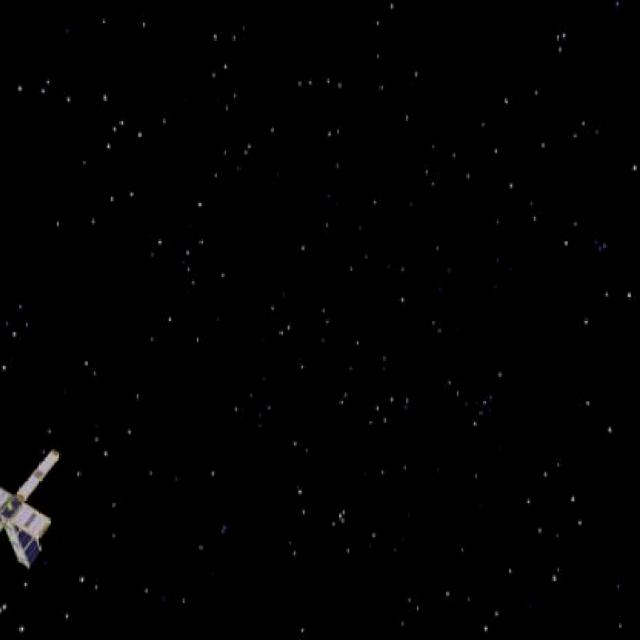satellite: (0, 443, 66, 565)
